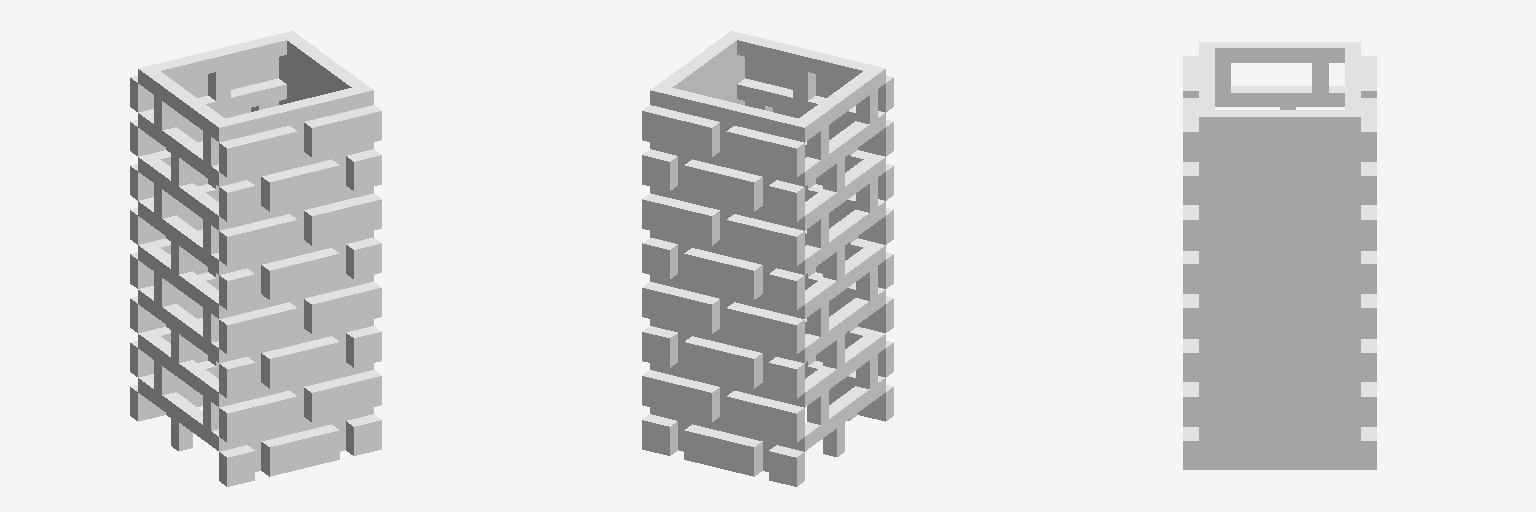
File: one_side_half_column_1.0.obj
3 renders of one model, left to right at view 1: azimuth 30°, elevation 25°; view 2: azimuth 150°, elevation 25°; view 3: azimuth 270°, elevation 25°, orthographic.
Parts seen in each view (by area): view 1: object 1; view 2: object 1; view 3: object 1.
Part boxes in pixels (x1,y1,x2,y2): object 1: (130, 31, 381, 486); object 1: (642, 31, 893, 486); object 1: (1183, 42, 1376, 469).
Size of the model in its own units: 1.1 by 2.4 by 1.2.